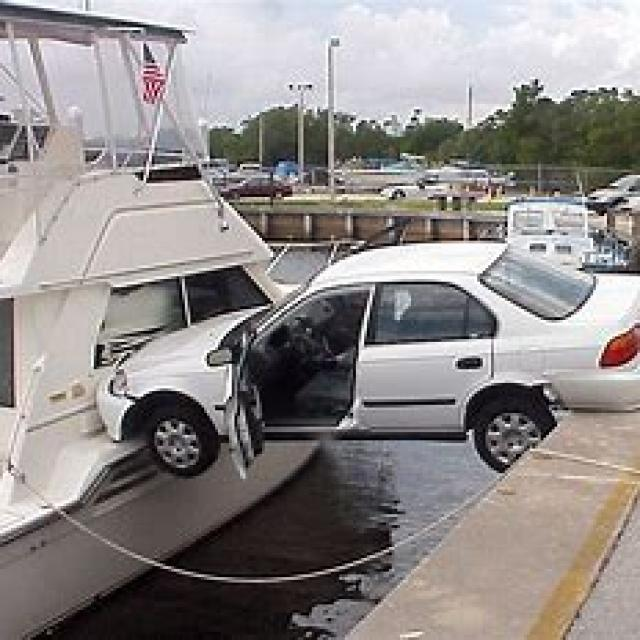Accident: (87, 90, 528, 538)
